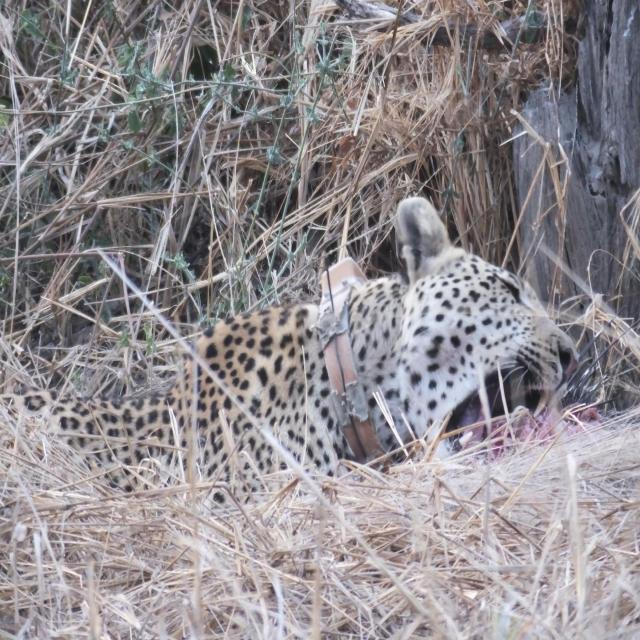Leopard: (8, 192, 571, 501)
